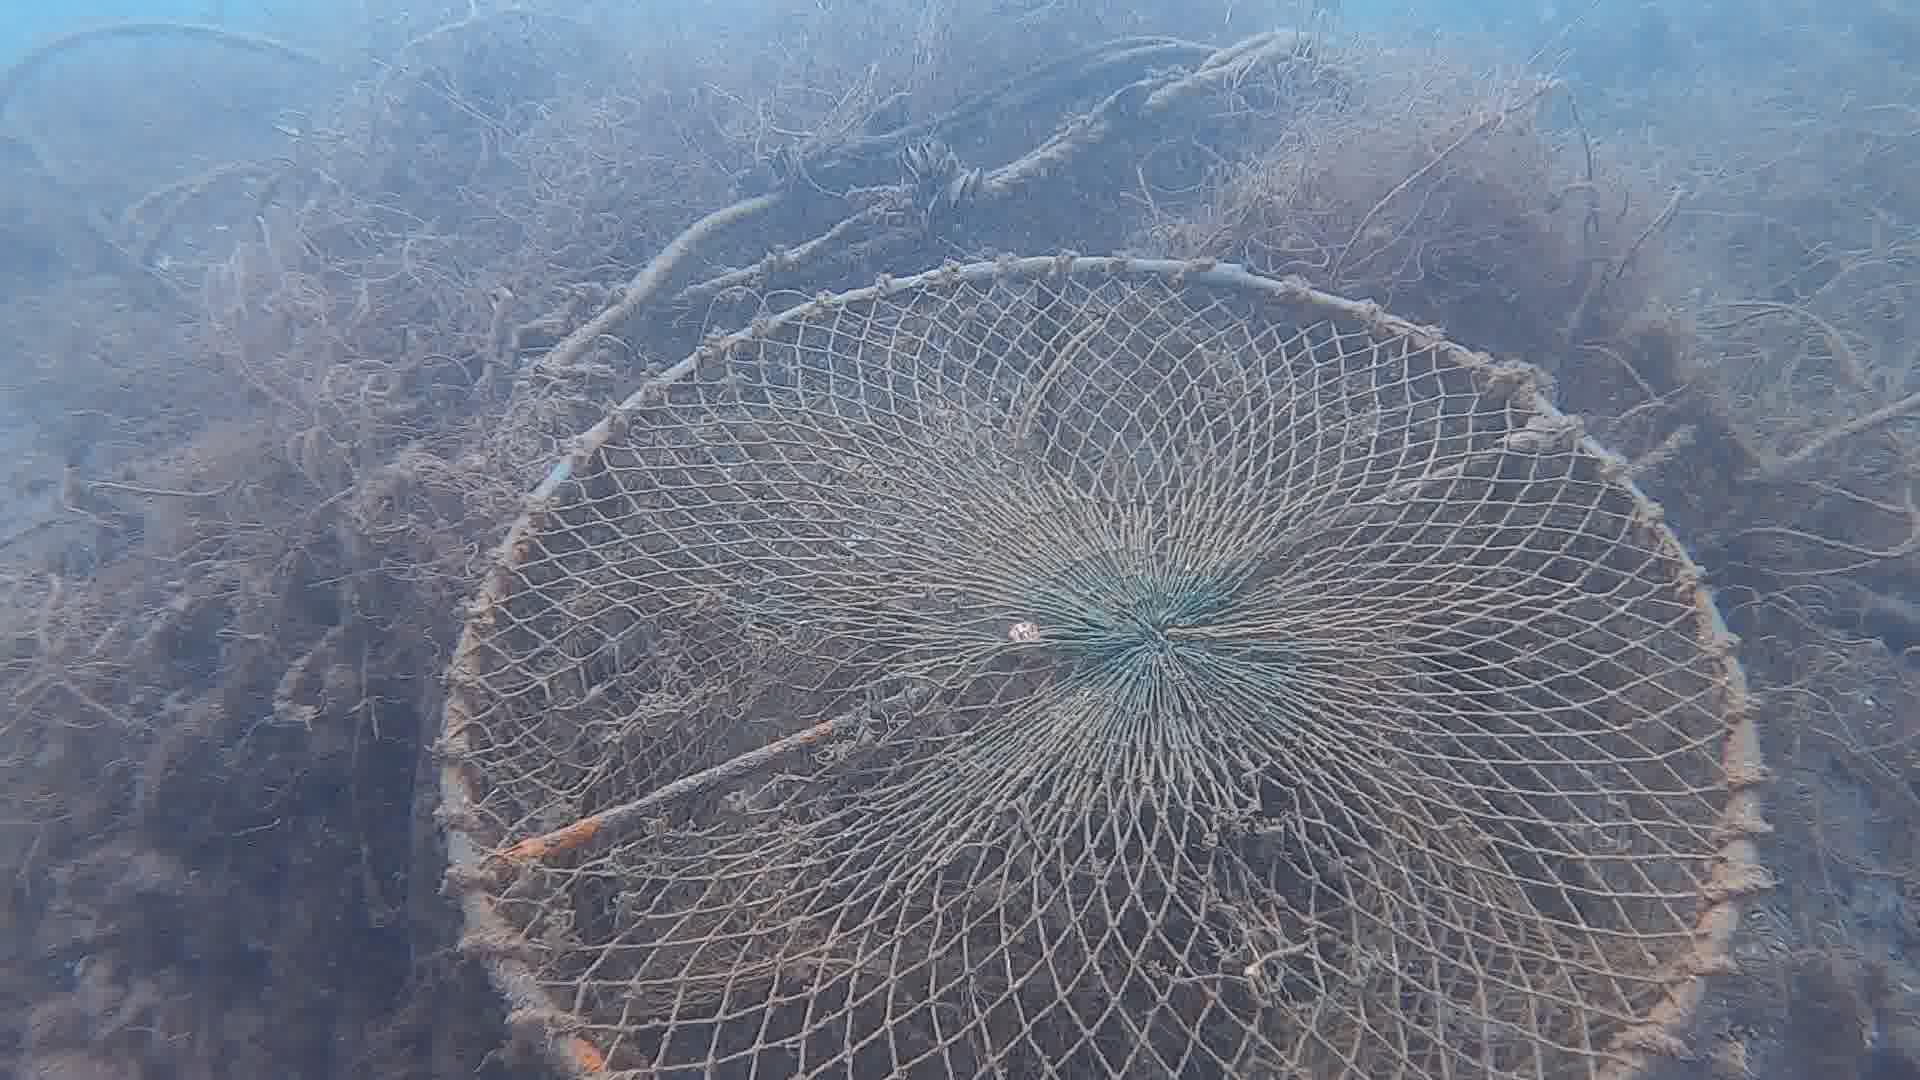circular fish trap: (427, 248, 1768, 1080)
